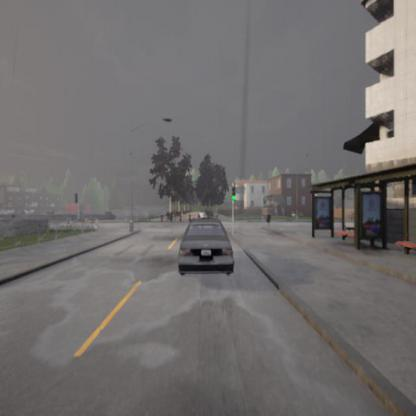traffic_light_green: (231, 186, 236, 200)
vehicle: (177, 219, 234, 276)
